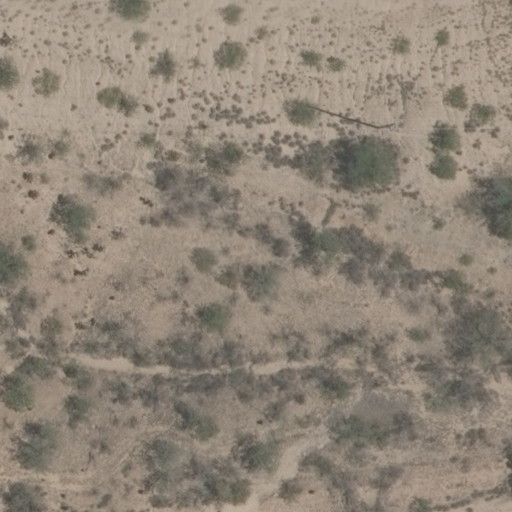DT: (372, 113, 401, 138)
